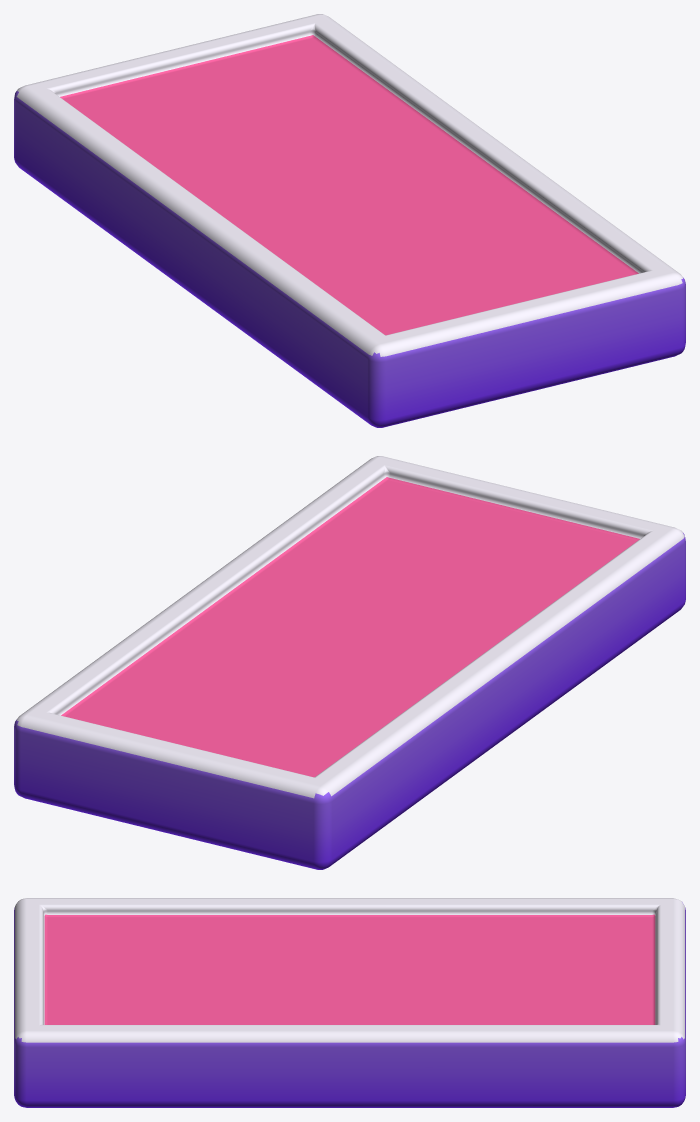
File: platform_4x8.glb
3 renders of one model, top to bottom at view 1: azimuth 30°, elevation 25°; view 2: azimuth 150°, elevation 25°; view 3: azimuth 270°, elevation 25°, orthographic. The views are drawn at different scales.
Visible parts, largest first — view 1: platform_4x8; view 2: platform_4x8; view 3: platform_4x8.
Boxes of the visible parts, box(x1,y1,x2,y2) form: platform_4x8: box(14, 14, 685, 427); platform_4x8: box(14, 456, 685, 869); platform_4x8: box(14, 898, 685, 1107).
Size of the model in its own units: 4 by 1 by 8.
Materials: 1 (1 with a texture image).
